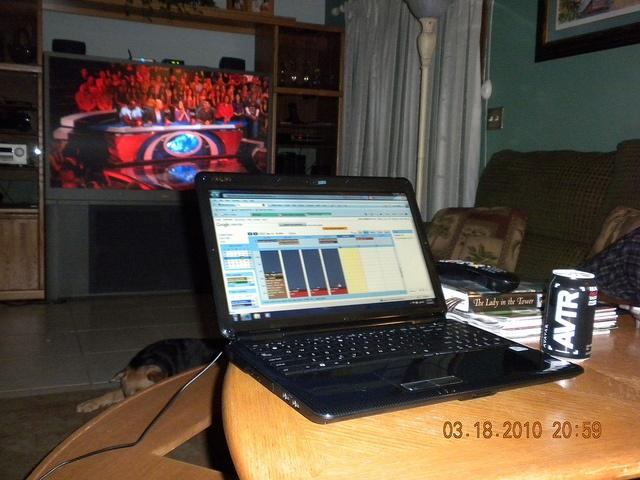AIO PC-Monitor-TV: (42, 50, 270, 198)
